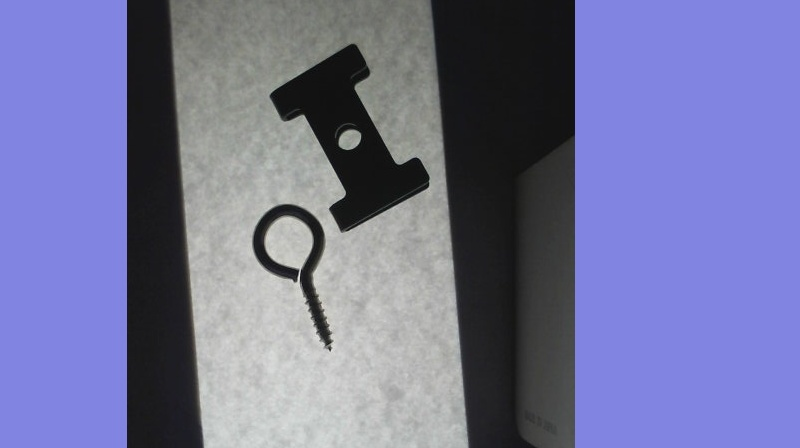O001: (249, 202, 333, 352)
O002: (267, 42, 428, 230)
